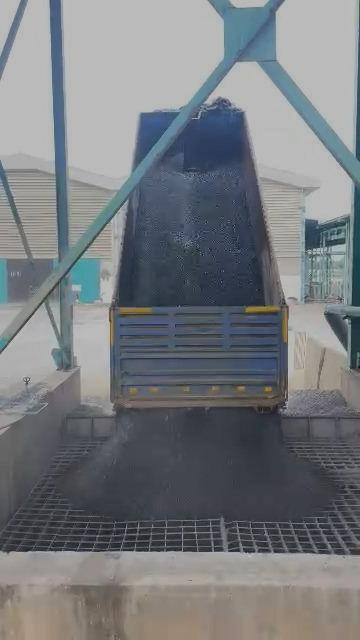gravel: (60, 409, 335, 520), (121, 154, 264, 305), (283, 390, 357, 416)
